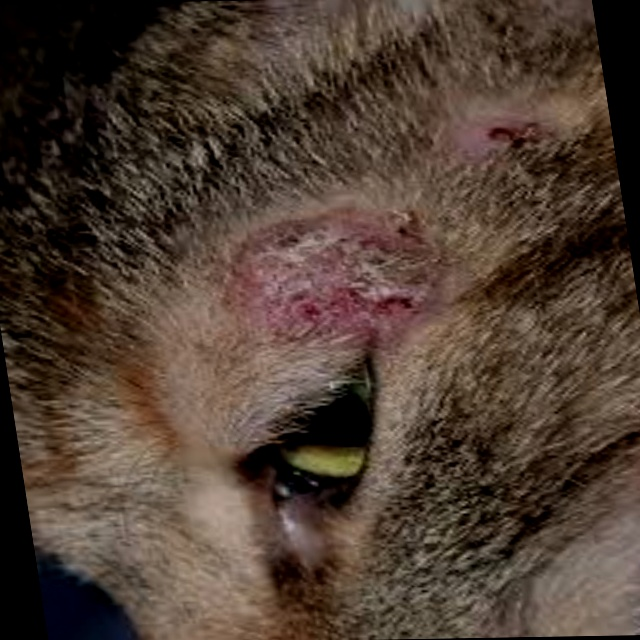ringworm: (185, 205, 453, 367), (460, 111, 552, 156)
